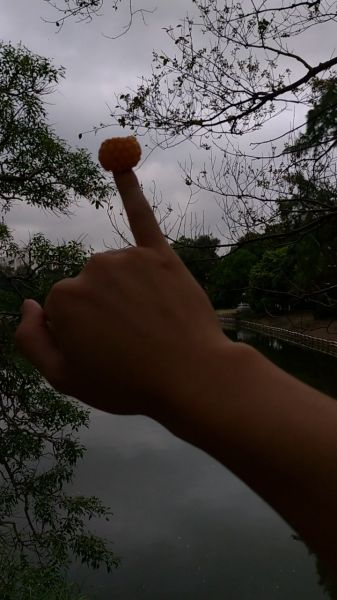eggs: (97, 137, 141, 169)
